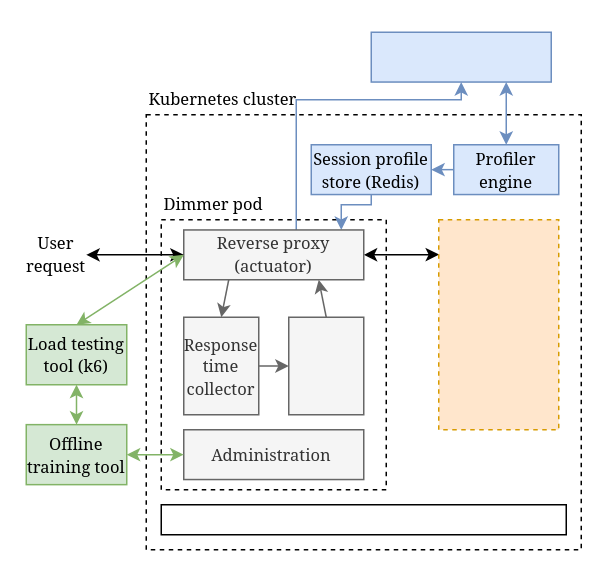
This 608x578 diagram has some shape labels left out. Each missing label, with the centre of its shape:
Configuration files (ConfigMap): the point at 363,519
Main application pods: the point at 498,324
PID controller: the point at 325,365
Session request history store (InfluxDB): the point at 460,56
